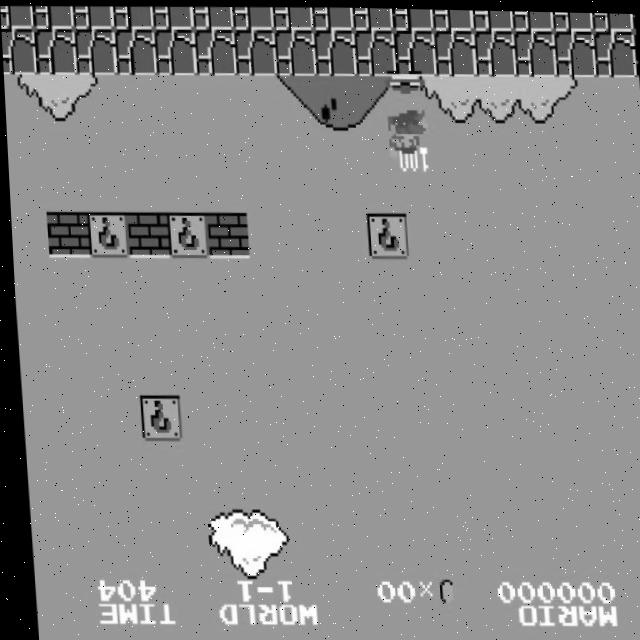1- brick_block: (203, 210, 247, 258), (123, 210, 167, 258), (44, 210, 87, 258)
11- little_mario: (385, 107, 431, 158)
13- mystery_block: (363, 210, 407, 258), (163, 210, 207, 258), (84, 210, 127, 258), (134, 394, 178, 440)
17- undestructible_block: (592, 27, 636, 75), (552, 27, 596, 75), (512, 27, 556, 75), (472, 27, 516, 75), (432, 27, 476, 75), (392, 27, 436, 75), (352, 27, 396, 75), (312, 27, 356, 75), (272, 27, 316, 75), (232, 27, 276, 75), (192, 27, 236, 75), (152, 27, 196, 75), (113, 27, 156, 75), (73, 27, 116, 75), (33, 27, 76, 75), (1, 27, 36, 75), (192, 5, 234, 30), (112, 4, 154, 29), (311, 5, 353, 29), (152, 5, 194, 29), (72, 5, 114, 29), (32, 5, 74, 29), (272, 5, 313, 29), (232, 5, 273, 29), (391, 7, 433, 30), (351, 6, 393, 29), (511, 9, 553, 30), (471, 8, 513, 29), (431, 8, 473, 29), (0, 5, 32, 30), (591, 10, 633, 29), (551, 10, 593, 29), (633, 29, 638, 75), (632, 11, 635, 28)
